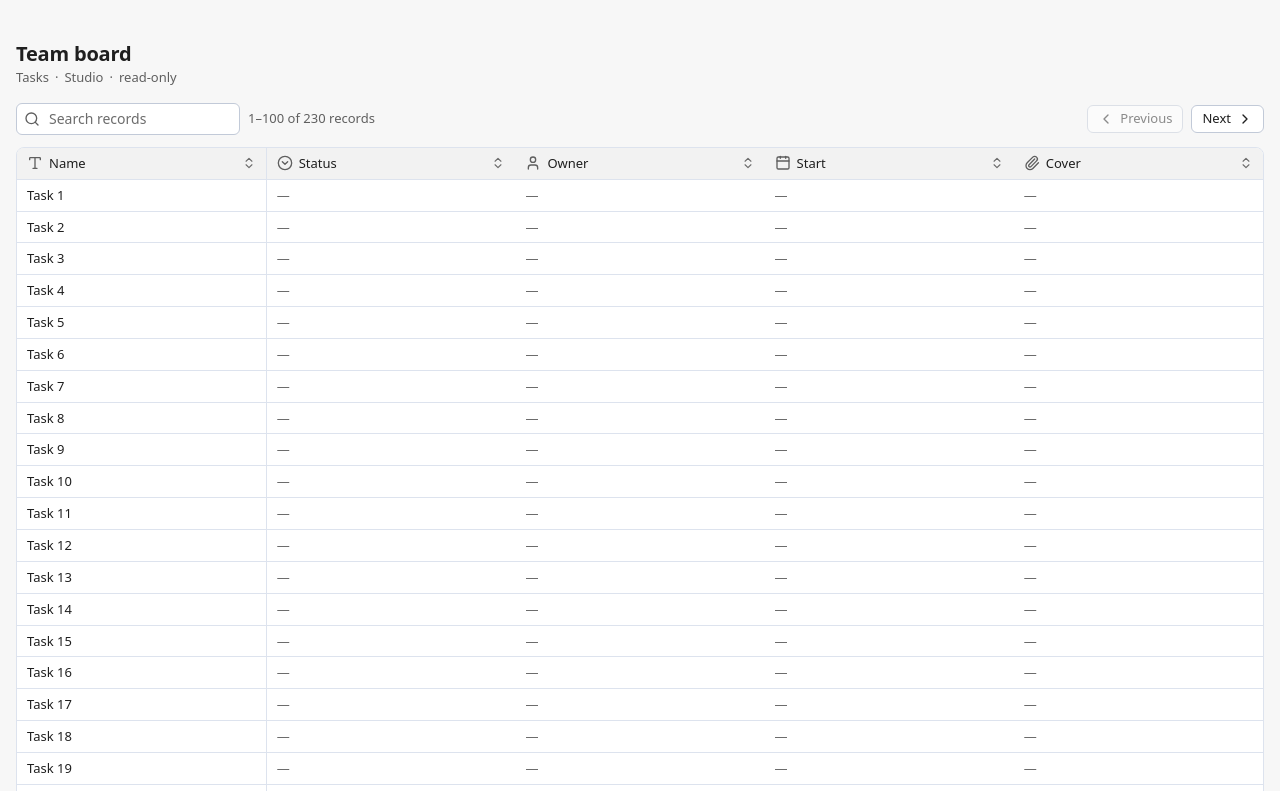
Test: a shared grid › pages through long results
Expected: the text "1–100 of 230 records" is shown, 248,109 -> 375,128
Expected: the button "Previous" is disabled, 1087,105 -> 1183,133
Click the button "Next" at (1228, 119), box 1192,105 -> 1264,133
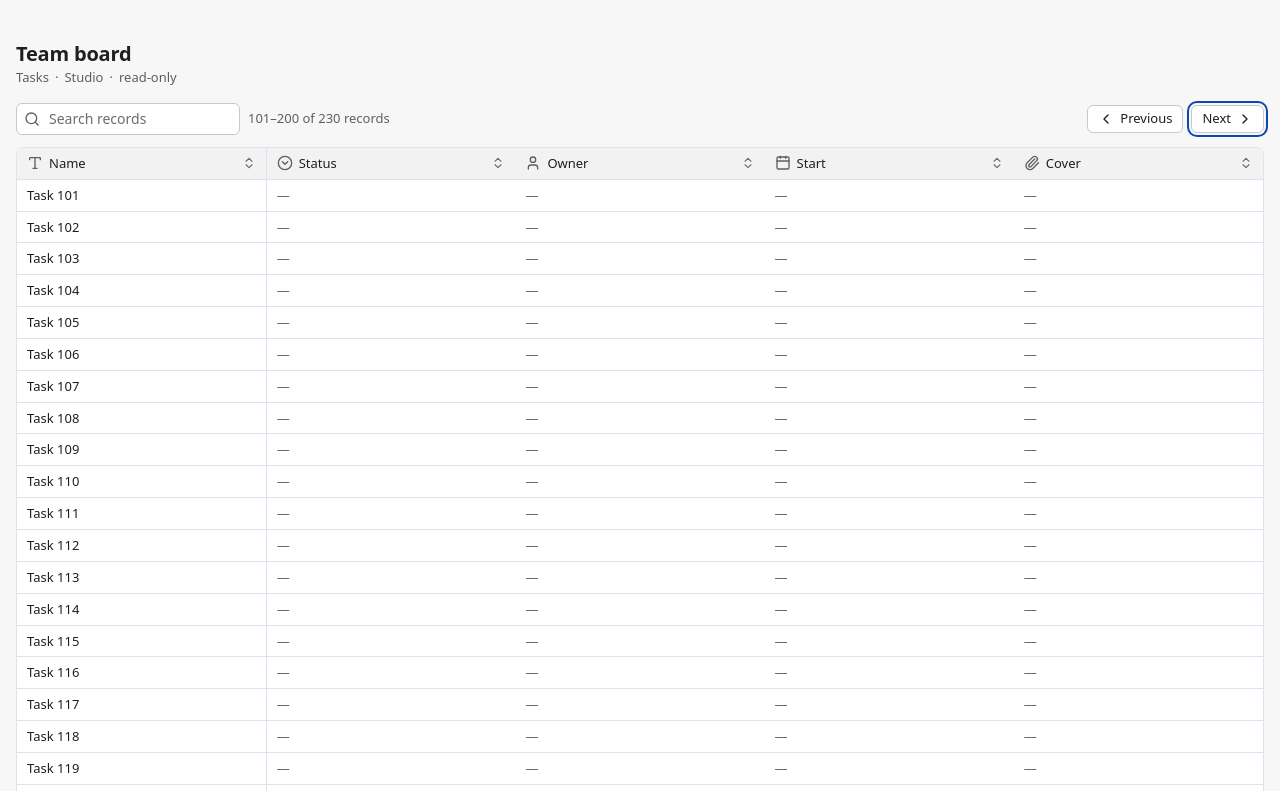
Now the text "101–200 of 230 records" is shown, box 248,109 -> 390,128
Click the button "Next" at (1228, 119), box 1192,105 -> 1264,133
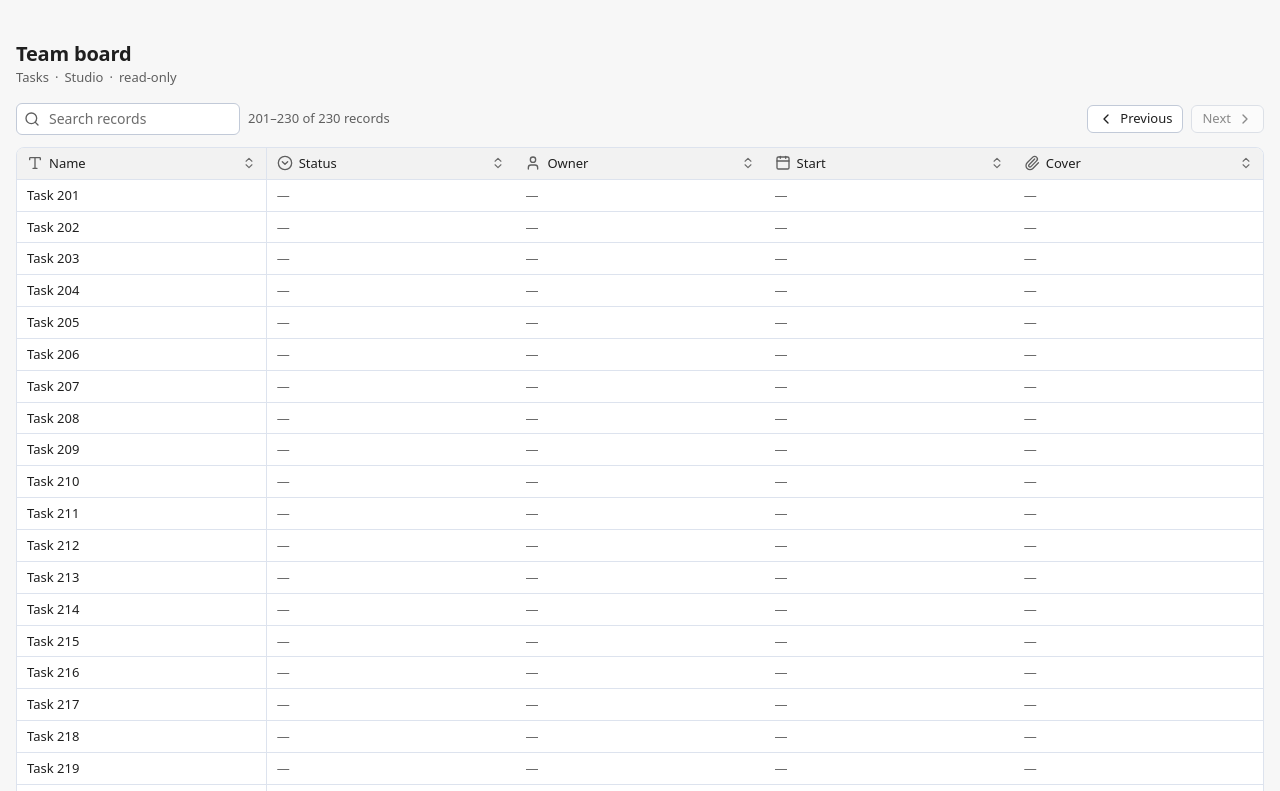
Now the text "201–230 of 230 records" is shown, box 248,109 -> 390,128
Now the button "Next" is disabled, box 1192,105 -> 1264,133
